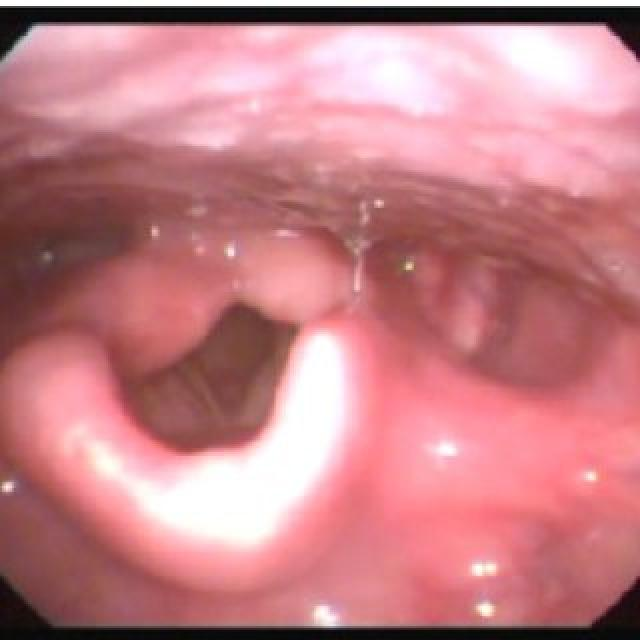arytenoid cartilagerotation: (43, 215, 364, 375)
epiglottisrotation: (0, 314, 392, 594)
larynxrotation: (174, 294, 301, 433)
